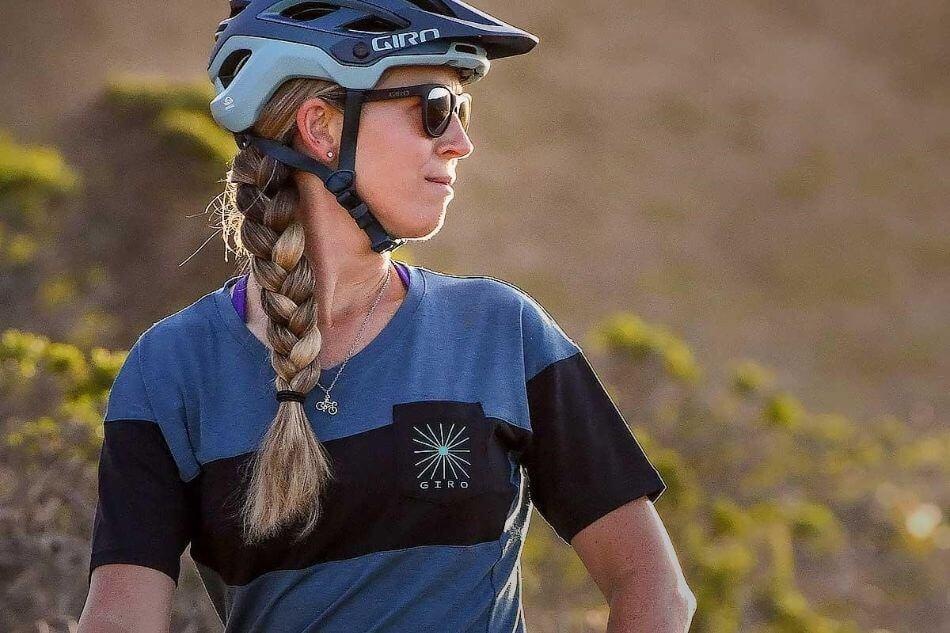helmet: (171, 0, 585, 154)
